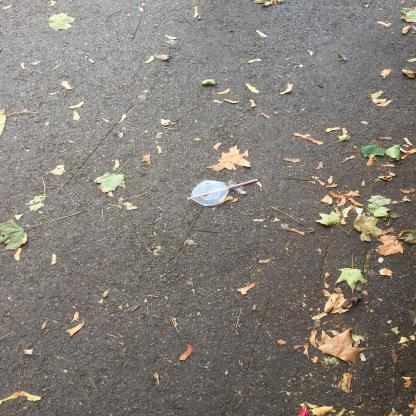plastik: (188, 180, 260, 208)
